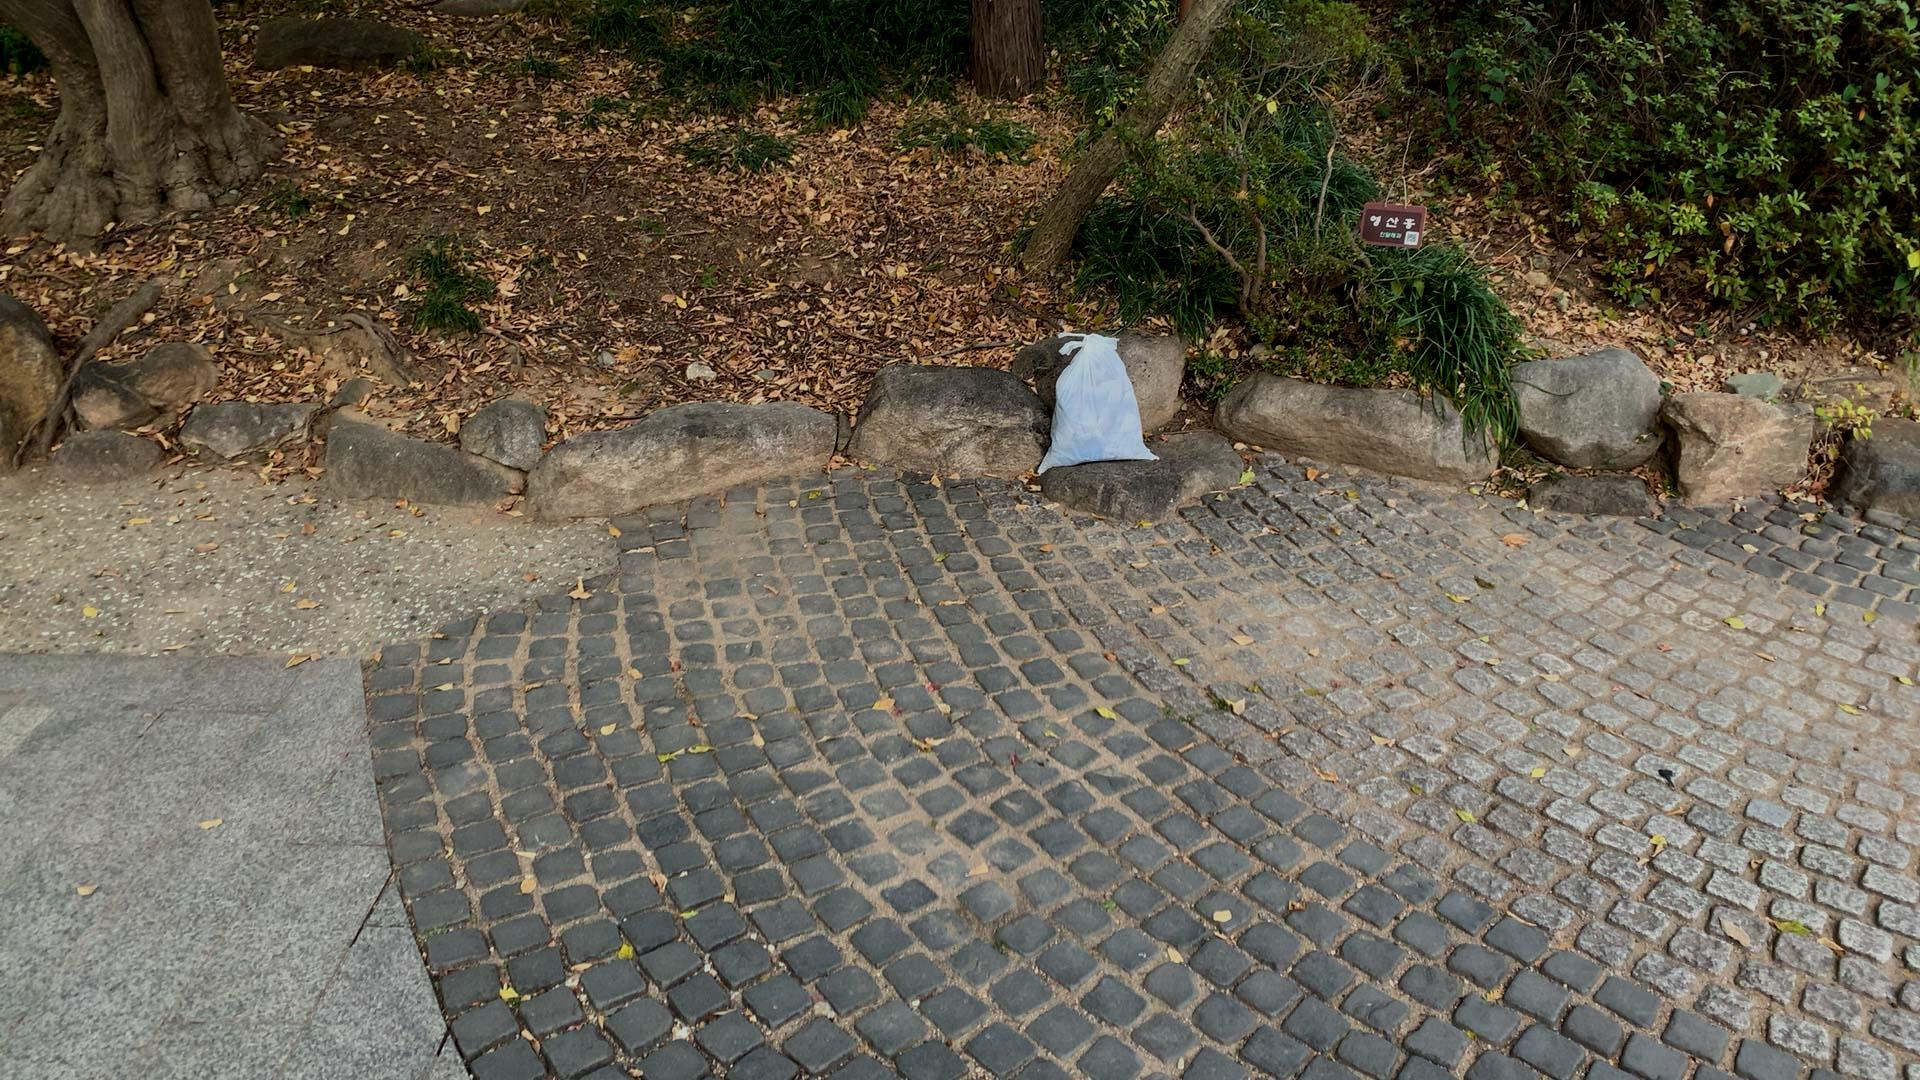white_bag: (1029, 327, 1164, 477)
